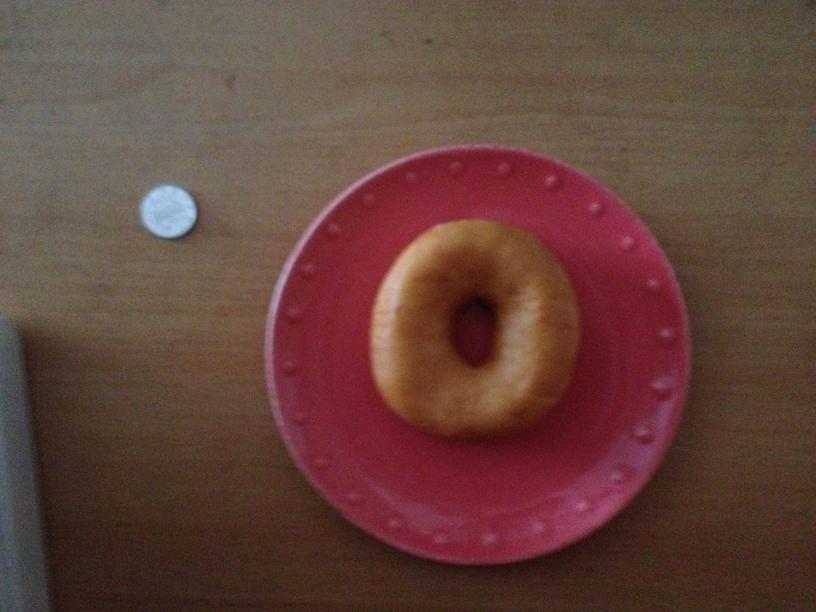coin: (140, 183, 198, 241)
doughnut: (367, 218, 577, 433)
